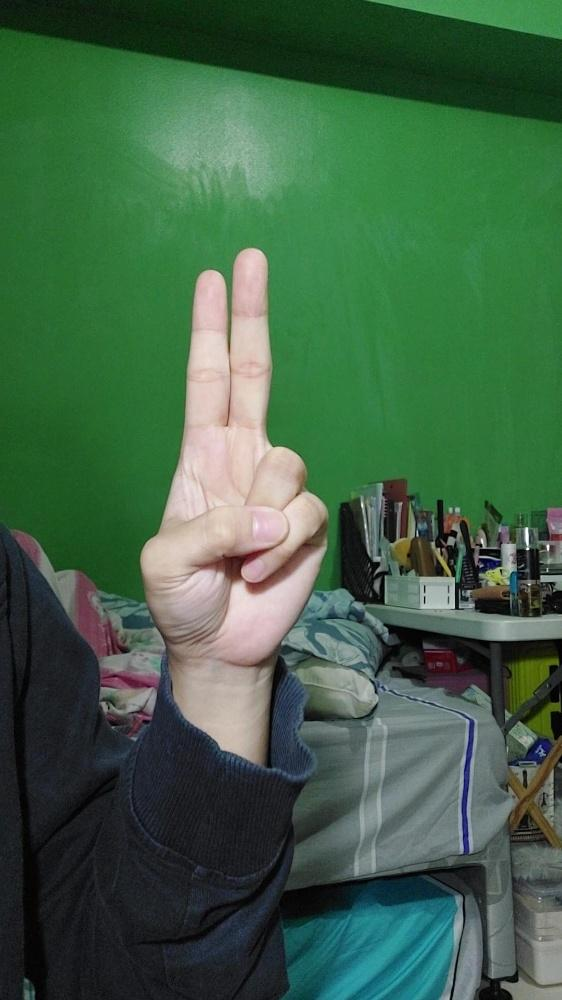u: (139, 245, 329, 667)
